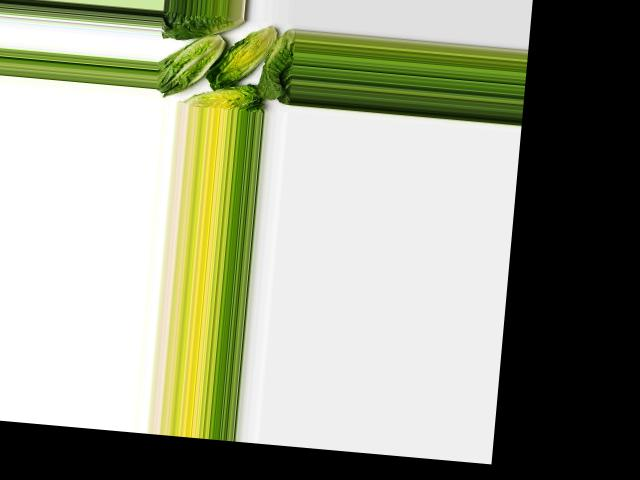lettuce: (254, 28, 296, 105)
